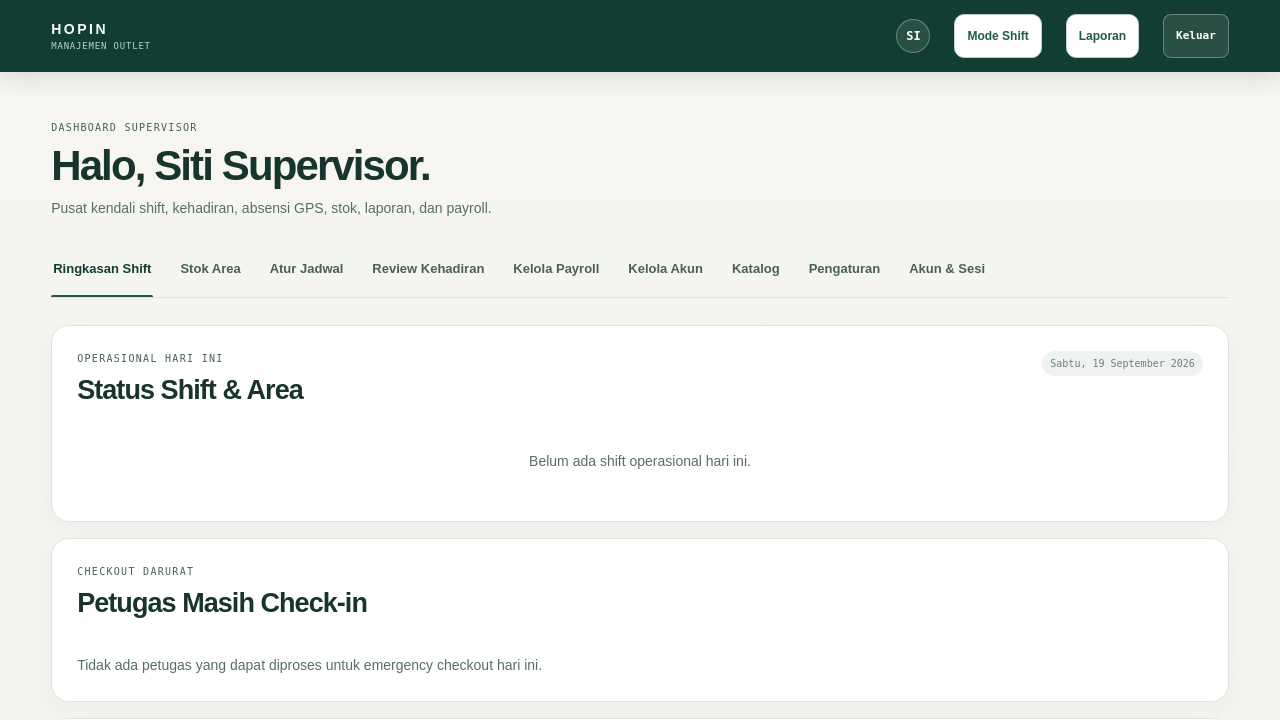
Test case: Staff Flow & Onboarding UI Regression › allows supervisor to enter an explicit physical baseline via canManage (F02/B06)
Note: Supervisor enters shift mode to view workspace
Click the button "Mode Shift".
click(998, 36)  # box top-left (954, 14), bottom-right (1042, 58)
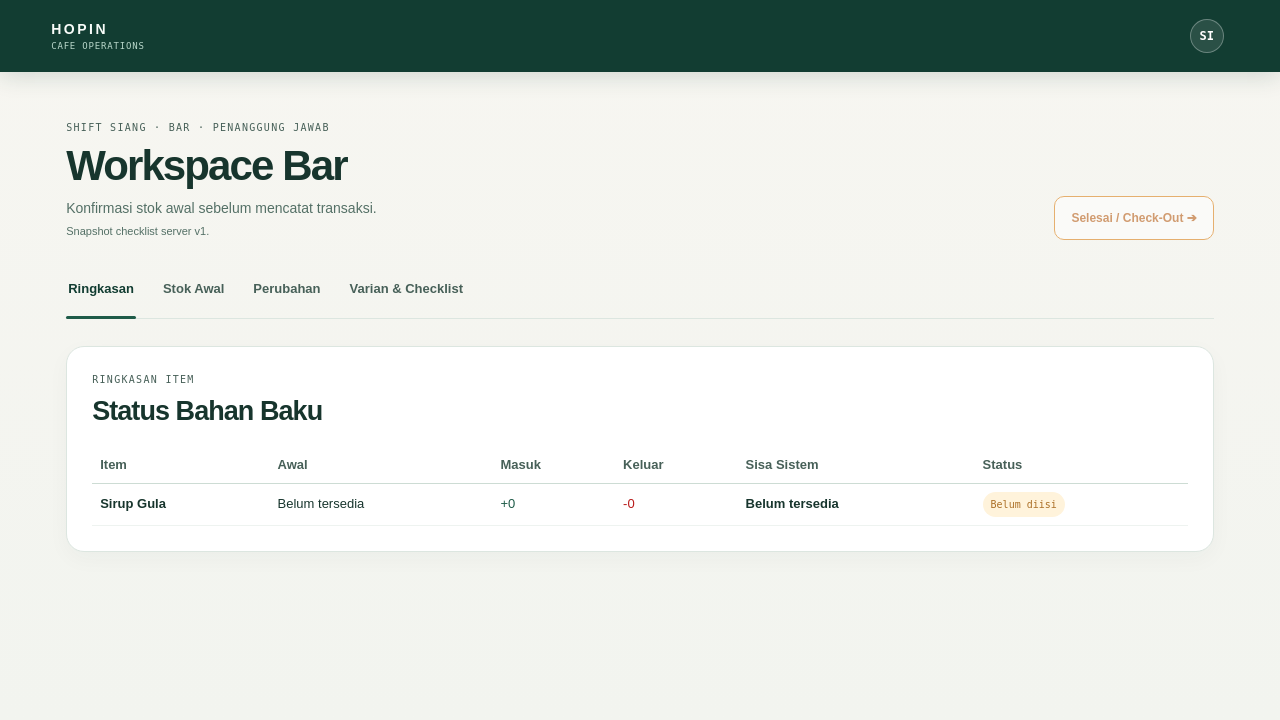
Note: Go to Stok Awal tab where opening reference initialization is located
Click the button "Stok Awal".
click(194, 296)  # box top-left (161, 274), bottom-right (226, 318)
(page scrolled)
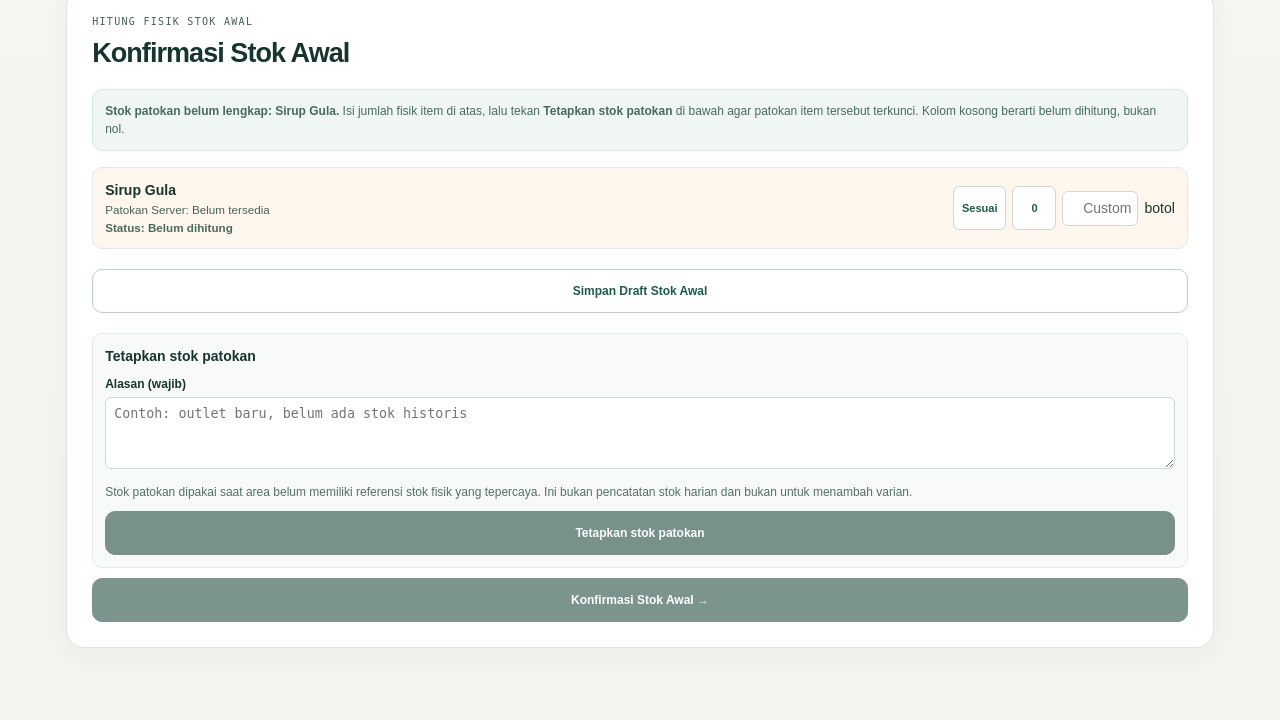
Expected: the field named "jumlah fisik stok awal sirup gula" is shown, top-left (1062, 191), bottom-right (1138, 226)
Expected: the button "Tetapkan stok patokan" is shown, top-left (105, 511), bottom-right (1175, 555)
